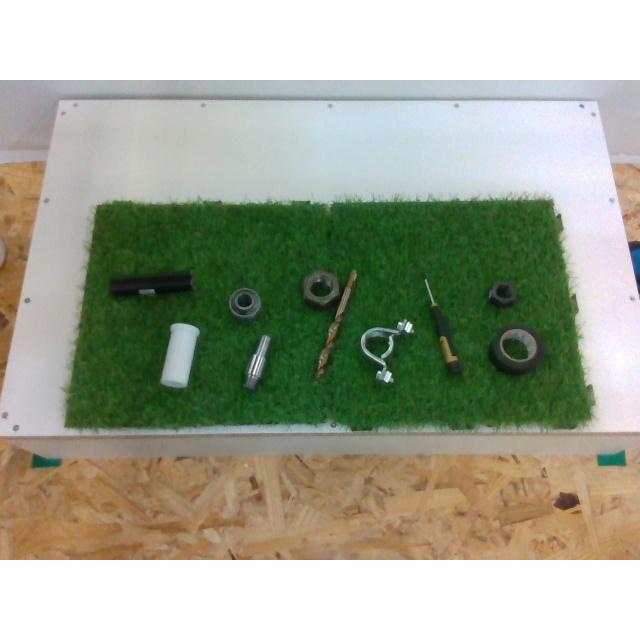Axis2: (242, 334, 270, 390)
Bearing2: (228, 288, 260, 316)
Drill: (316, 270, 356, 378)
F20_20_B: (110, 270, 194, 296)
Housing: (359, 322, 413, 382)
M20: (488, 282, 516, 306)
M30: (302, 270, 338, 306)
Spacer: (160, 323, 200, 387)
